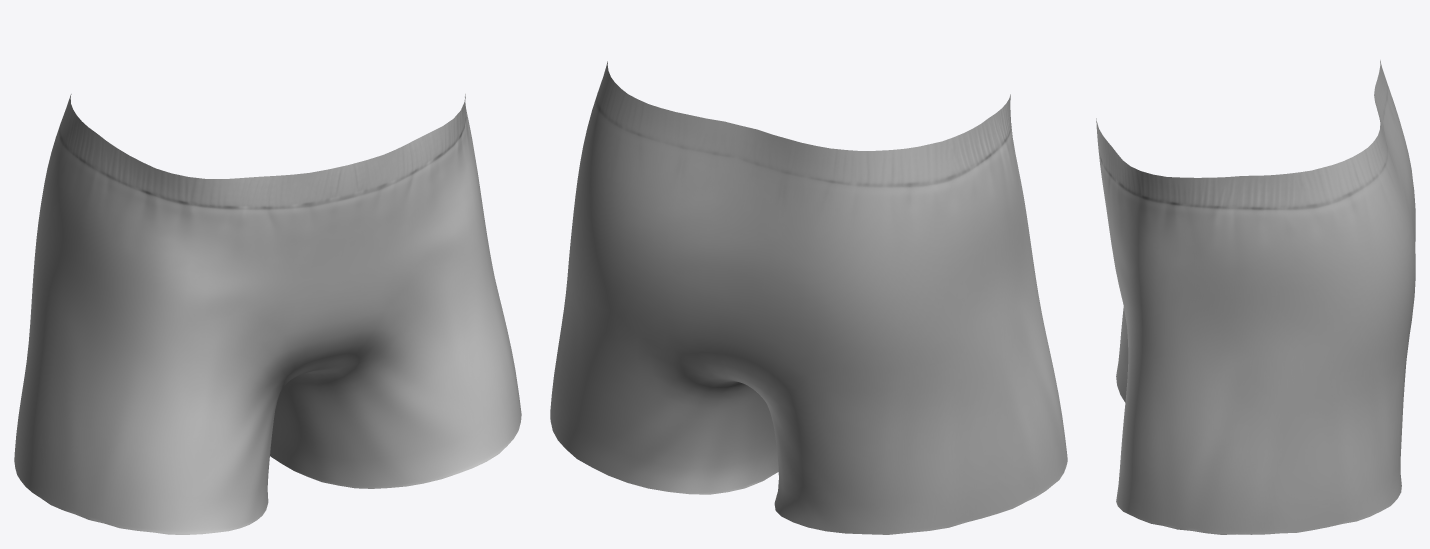
The model's file is flex-custom-board-shorts.glb.
3 views of the same model, side by side, from view 1: azimuth 30°, elevation 25°; view 2: azimuth 150°, elevation 25°; view 3: azimuth 270°, elevation 25° (orthographic). The views are drawn at different scales.
Parts seen in each view (by area): view 1: Extract3_Extract3; view 2: Extract3_Extract3; view 3: Extract3_Extract3.
Part boxes in pixels (bbox=[...]): Extract3_Extract3: bbox=[14, 94, 521, 534]; Extract3_Extract3: bbox=[550, 61, 1067, 534]; Extract3_Extract3: bbox=[1096, 60, 1415, 534].
Bounding box in the file's own units: 1.62 × 1.26 × 1.01.
Materials: 6 (6 with a texture image).
